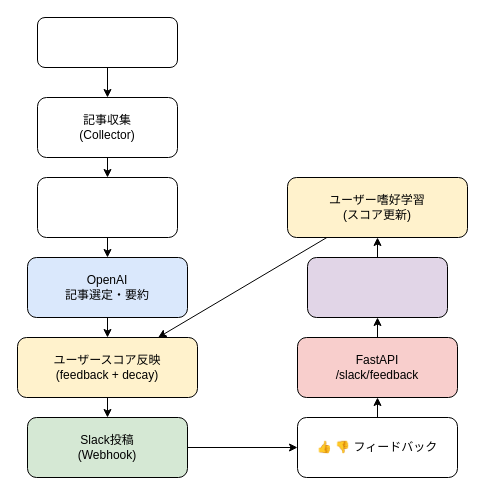
The diagram is 485 pixels wide and 495 high, and some of its shapes have lost their labels. The shapes that lost their labels are listed below. From the top down, each one's centre as x and y in pixels, then its label:
(107,42): RSS Feed
(107,207): 重複排除 (Deduplicator)
(377,287): PostgreSQL
